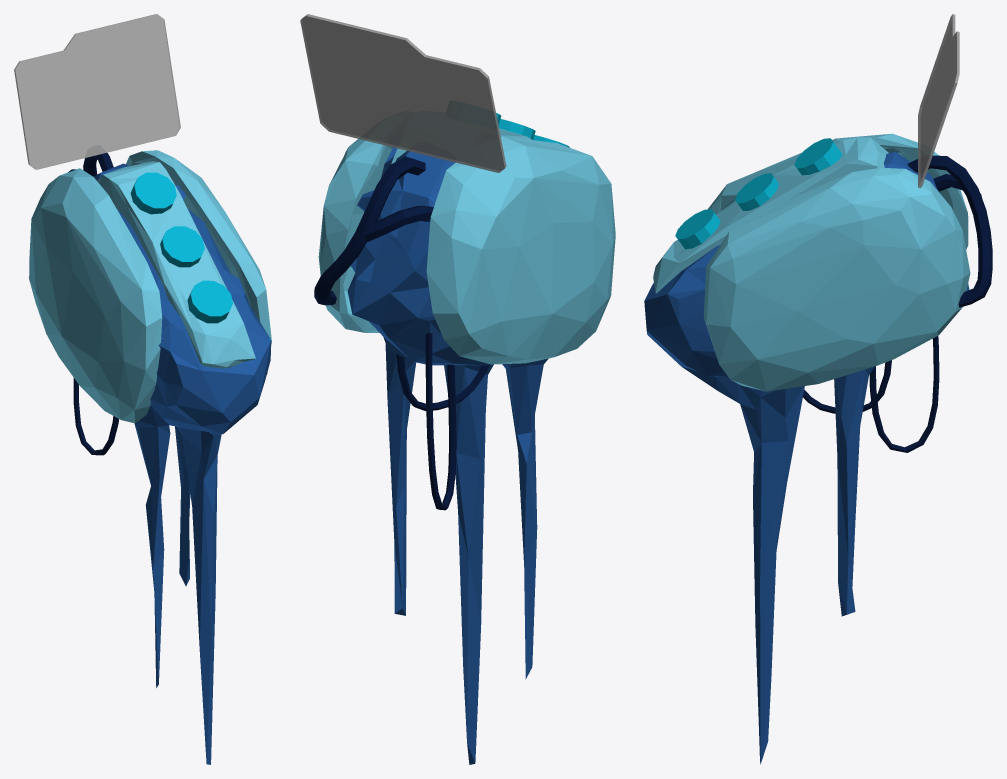
The model's file is weaponControlPanel.fbx.
3 views of the same model, side by side, from view 1: azimuth 30°, elevation 25°; view 2: azimuth 150°, elevation 25°; view 3: azimuth 270°, elevation 25° (orthographic). The views are drawn at different scales.
Parts seen in each view (by area): view 1: sides, mainBase1, screen, buttonBase1, button3, button1, button2, cable1, cable3; view 2: sides, mainBase1, screen, cable3, cable1, cable2; view 3: sides, mainBase1, buttonBase1, screen, cable3, cable1, button1, button3, button2, cable2.
Part boxes in pixels (x1,y1,x2,y2): sides: (29, 150, 271, 423); mainBase1: (94, 163, 271, 764); screen: (14, 14, 180, 169); buttonBase1: (97, 161, 255, 368); button3: (187, 280, 232, 323); button1: (130, 172, 176, 214); button2: (160, 226, 204, 267); cable1: (73, 378, 118, 455); cable3: (68, 152, 113, 176); sides: (318, 136, 615, 364); mainBase1: (347, 147, 548, 764); screen: (300, 14, 506, 172); cable3: (314, 156, 433, 305); cable1: (425, 333, 456, 510); cable2: (396, 354, 489, 410); sides: (703, 133, 970, 391); mainBase1: (644, 151, 969, 764); buttonBase1: (653, 137, 888, 293); screen: (918, 14, 959, 188); cable3: (907, 155, 992, 307); cable1: (869, 336, 939, 452); button1: (794, 138, 842, 175); button3: (675, 209, 720, 249); button2: (735, 173, 778, 210); cable2: (803, 360, 891, 413).
Bounding box in the file's own units: 1.89 × 7.72 × 3.42.
